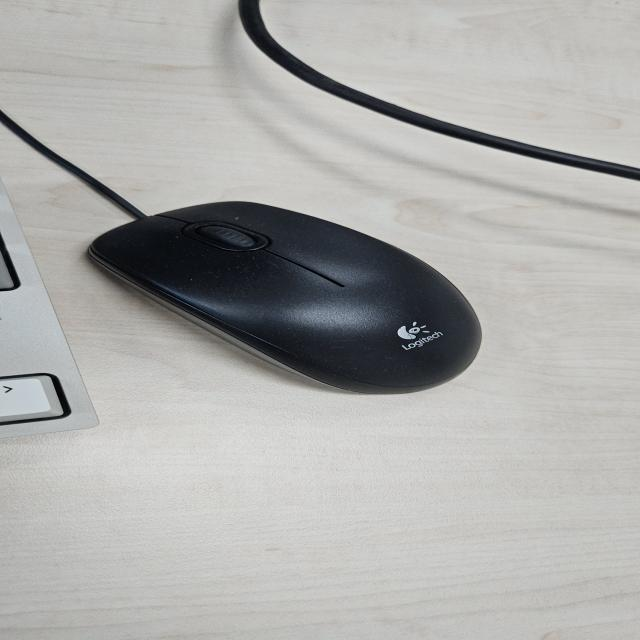Keyboard: (0, 179, 100, 439)
Mouse: (85, 199, 485, 396)
